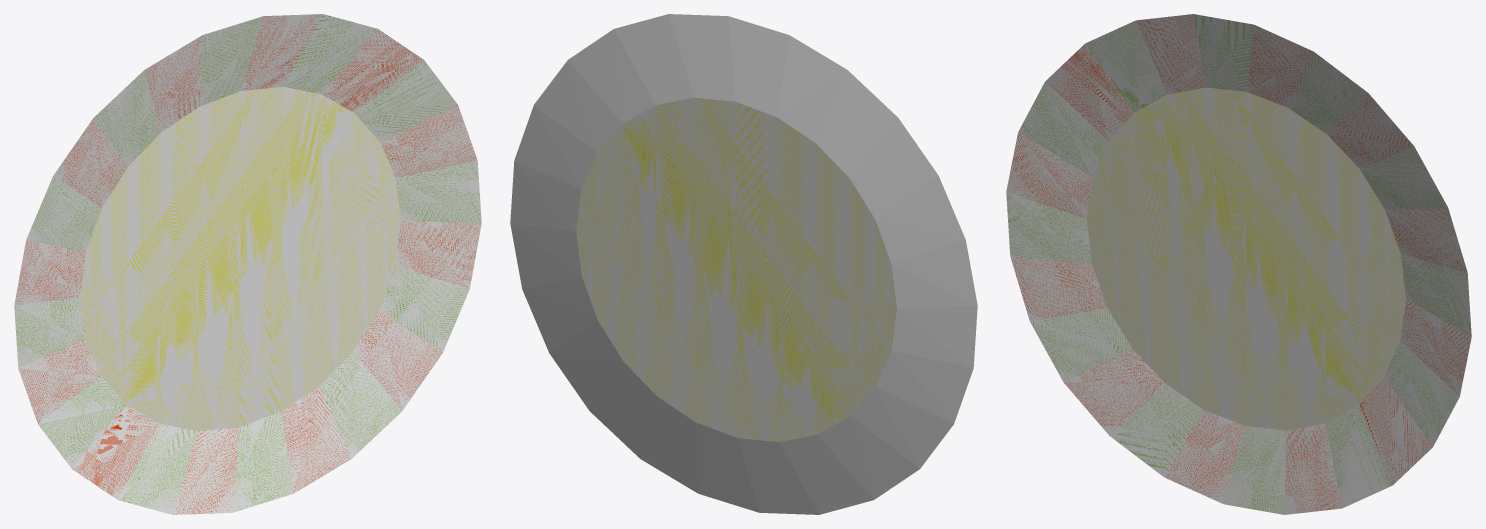
3 renders of one model, left to right at view 1: azimuth 30°, elevation 25°; view 2: azimuth 150°, elevation 25°; view 3: azimuth 330°, elevation 25°, orthographic.
Visible parts, largest first — view 1: southwest dinner plate; view 2: southwest dinner plate; view 3: southwest dinner plate.
Boxes of the visible parts, <box> form: southwest dinner plate: <box>14,14,481,514</box>; southwest dinner plate: <box>510,14,977,514</box>; southwest dinner plate: <box>1006,14,1471,514</box>.
Bounding box in the file's own units: 36.42 × 36.42 × 1.
